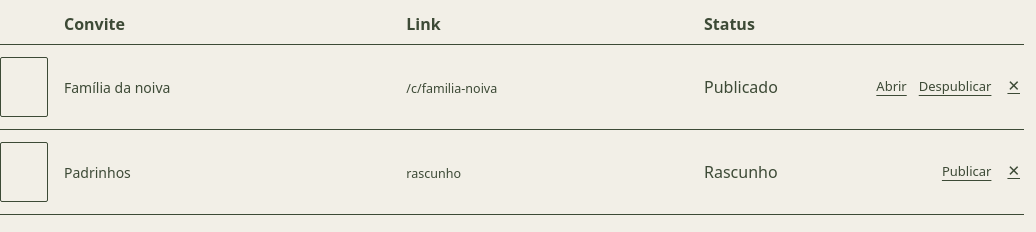
it: SC-005: publicar muda a linha inteira, sem sair da aba › o endereço aparece e a etiqueta vira sólida
Click the button "Publicar" at x=967, y=172, box [942,162,991,182]
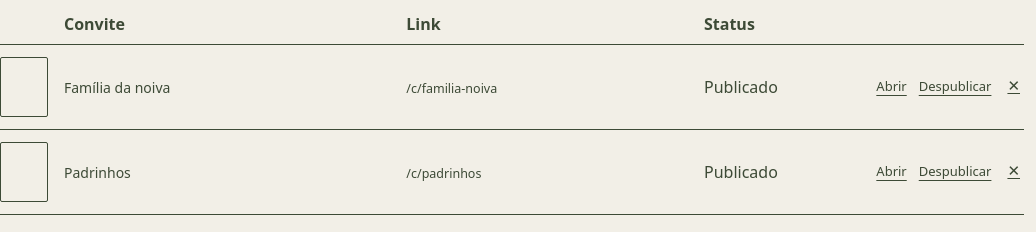
Check: the row "Padrinhos /c/padrinhos Publicado Abrir Despublicar ✕" is shown, box [0,130,1024,214]
Check: the text "rascunho" is gone
